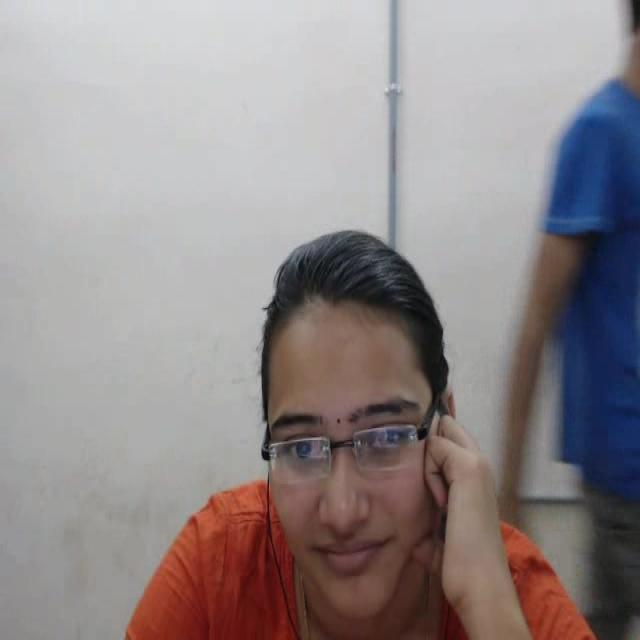Bored: (218, 212, 483, 640)
